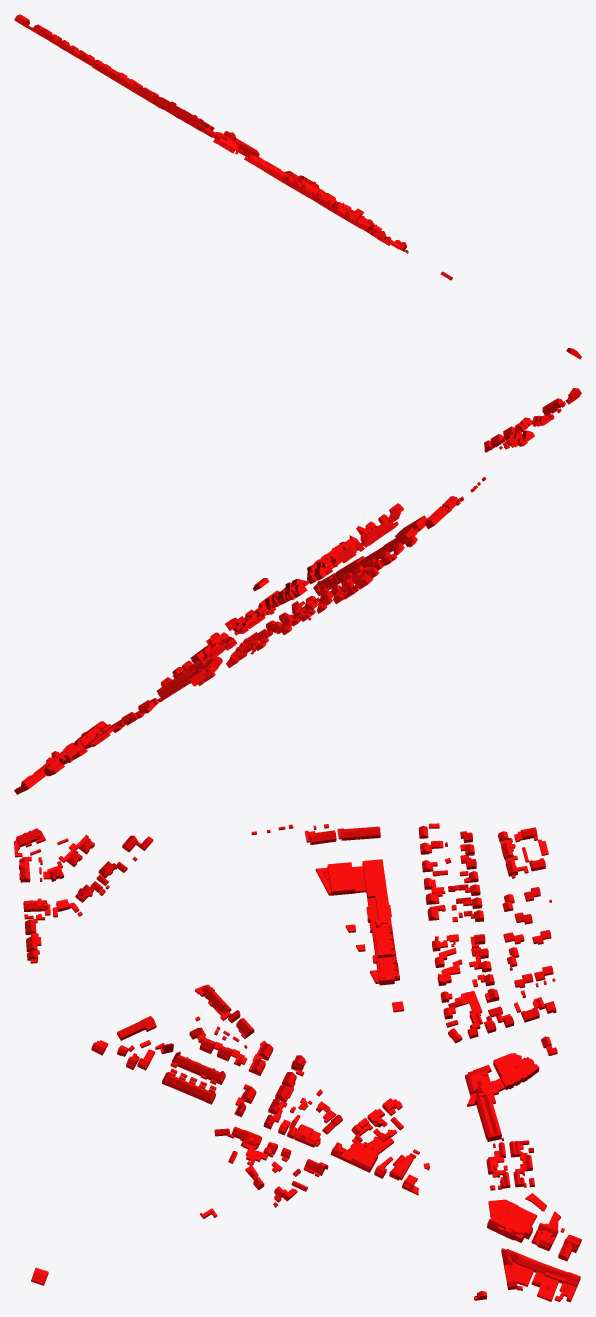
The picture shows the model from 3 angles, top to bottom: view 1: azimuth 30°, elevation 25°; view 2: azimuth 150°, elevation 25°; view 3: azimuth 270°, elevation 25°; orthographic projection. The views are drawn at different scales.
Visible parts, largest first — view 1: mesh; view 2: mesh; view 3: mesh.
Boxes of the visible parts, x1,y1,x2,y2 form: mesh: [14, 14, 581, 359]; mesh: [14, 388, 581, 794]; mesh: [14, 823, 581, 1302].
Size of the model in its own units: 401 by 326 by 535.
